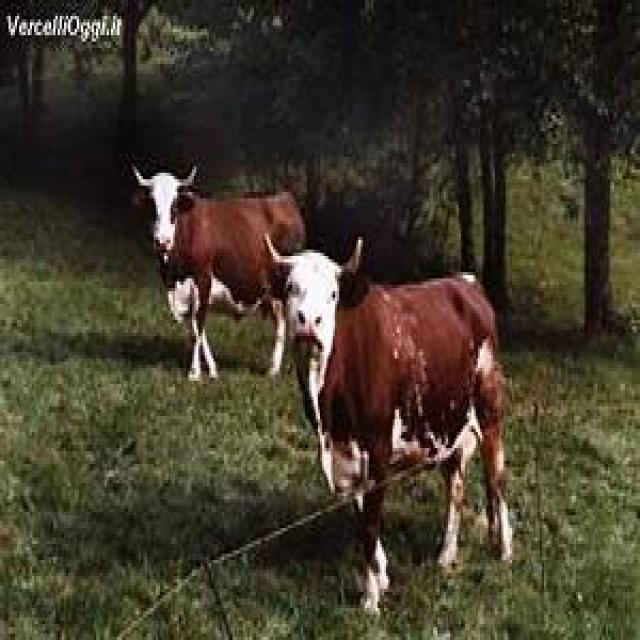cow: (284, 240, 514, 614), (130, 173, 307, 378)
